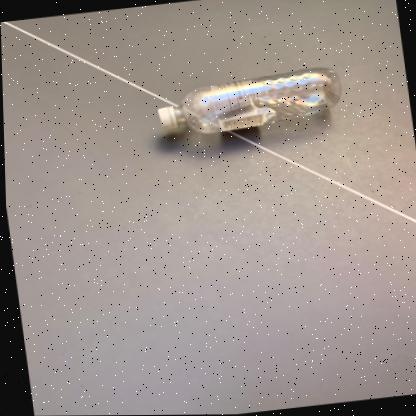Plastic: (156, 66, 340, 132)
